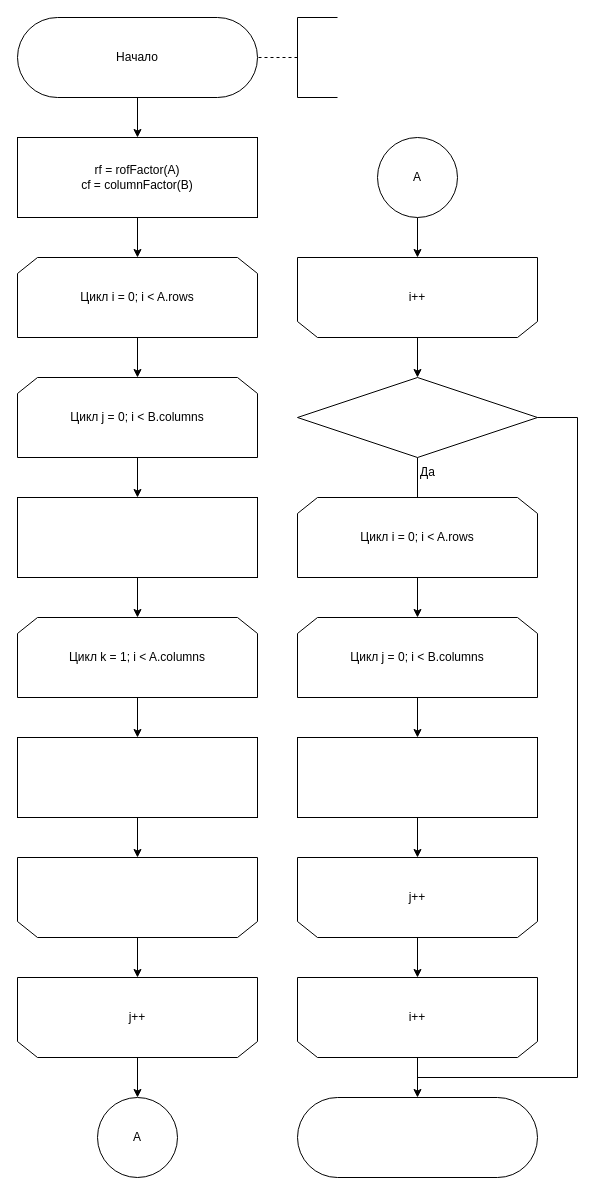
Some shapes in this 596 by 1195 pixel diagram are drawn without their labels. The shapes that lost their labels are listed below. From the top down, each one's box as (x1, y1, x2, y2) in pixels, then its label:
(296, 16, 338, 98): Умножение матриц Виноградом Вход: матрицы А и B Выход: матрица С
(296, 376, 538, 458): A.columns % 2 != 0
(16, 496, 258, 578): C[i][j] = -(rf[i] + cf[j])
(16, 736, 258, 818): C[i][j] +=(A[i][k-1] + B[k][j])*(A[i][k] + B[k-1][j])
(296, 736, 538, 818): C[i][j] += A[i][A.columns-1] * B[B.rows-1][j]
(16, 856, 258, 938): k += 2
(296, 1096, 538, 1178): Конец
